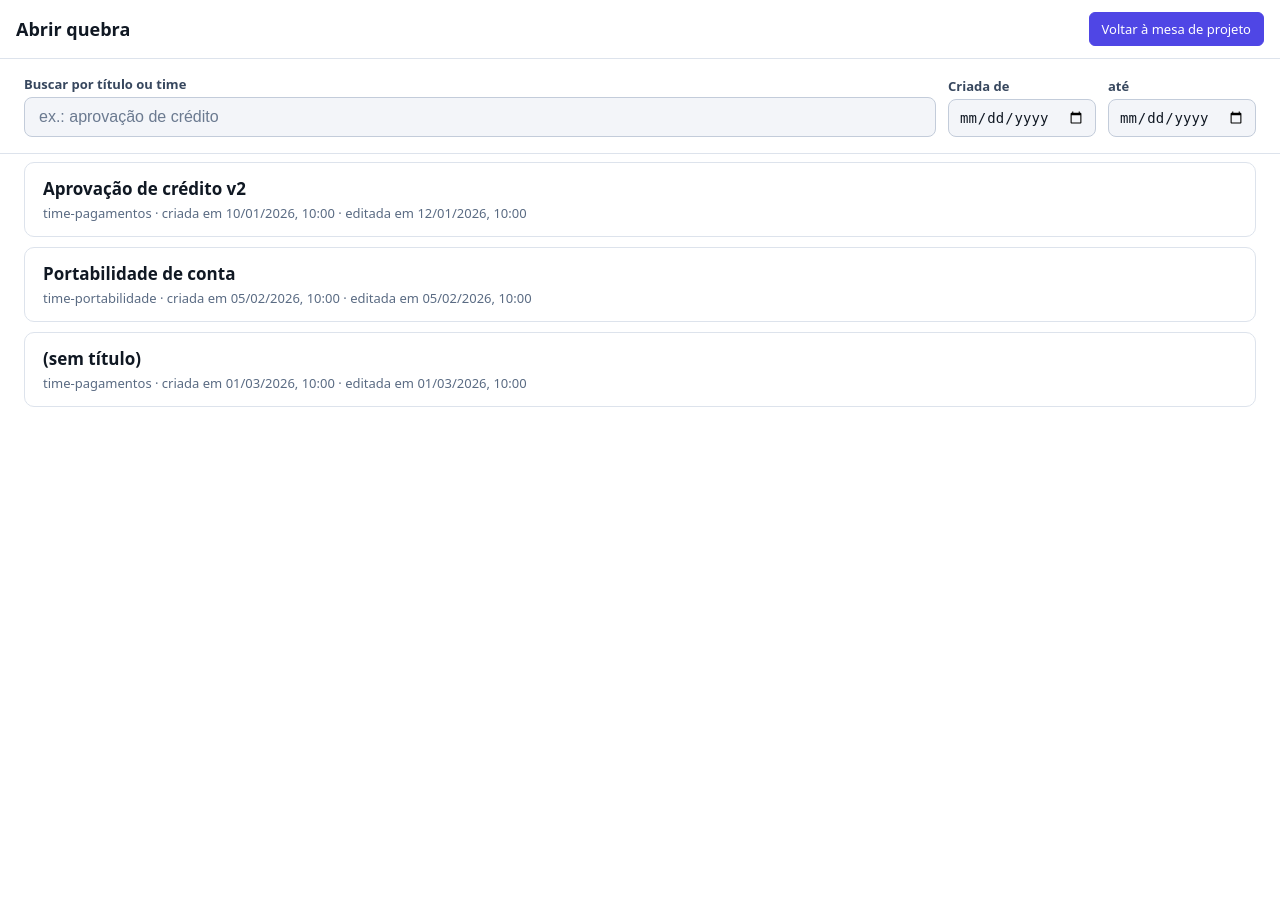
Test: AbrirQuebraScreen › busca por título filtra a lista em tempo real
The image size is (1280, 900).
Type "crédito" into the field labelled "Buscar por título ou time". click: (480, 117)
box: [24, 97, 936, 137]
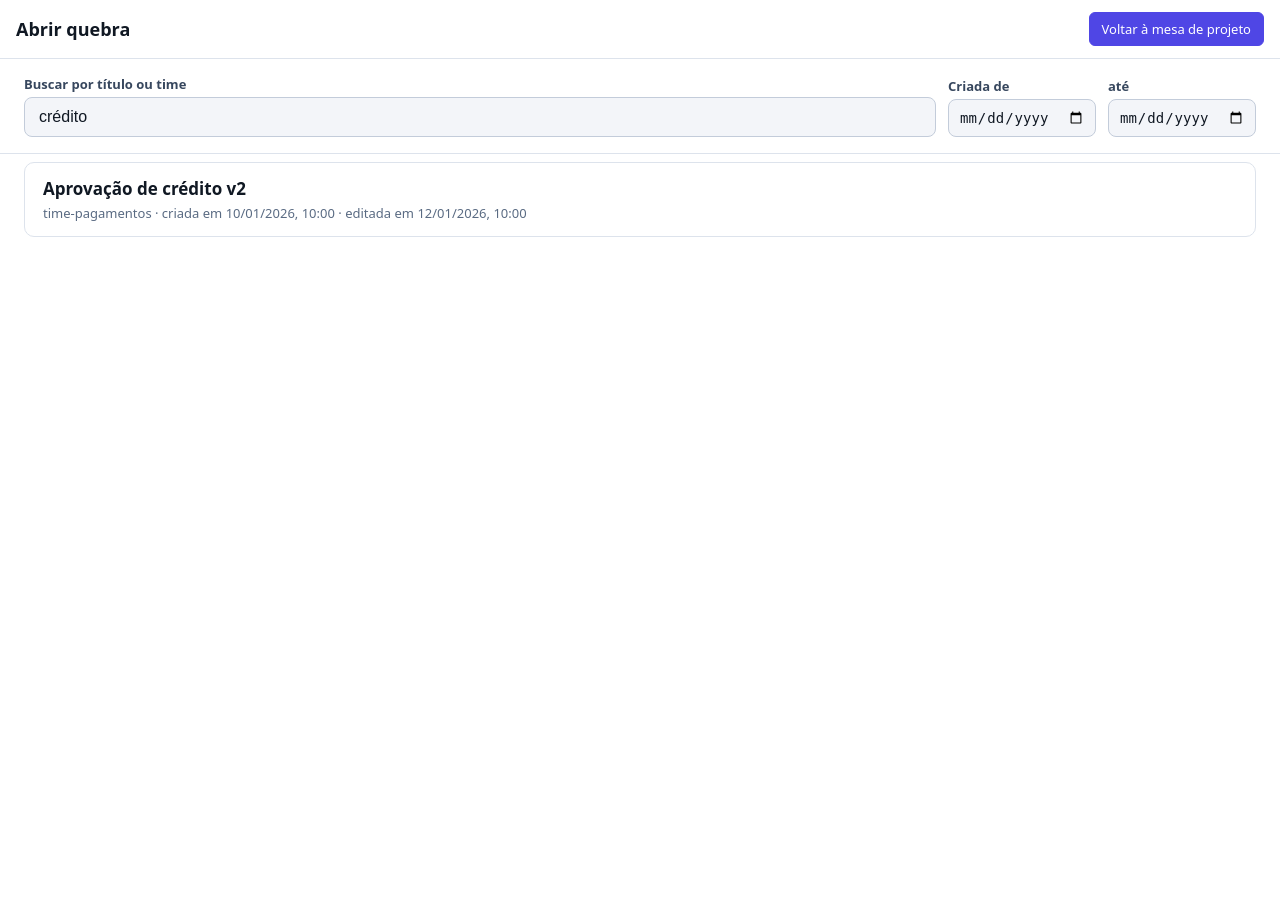
Expected: the text "Aprovação de crédito v2" is shown, [43, 177, 246, 200]
Now the button "Portabilidade de conta" is gone
